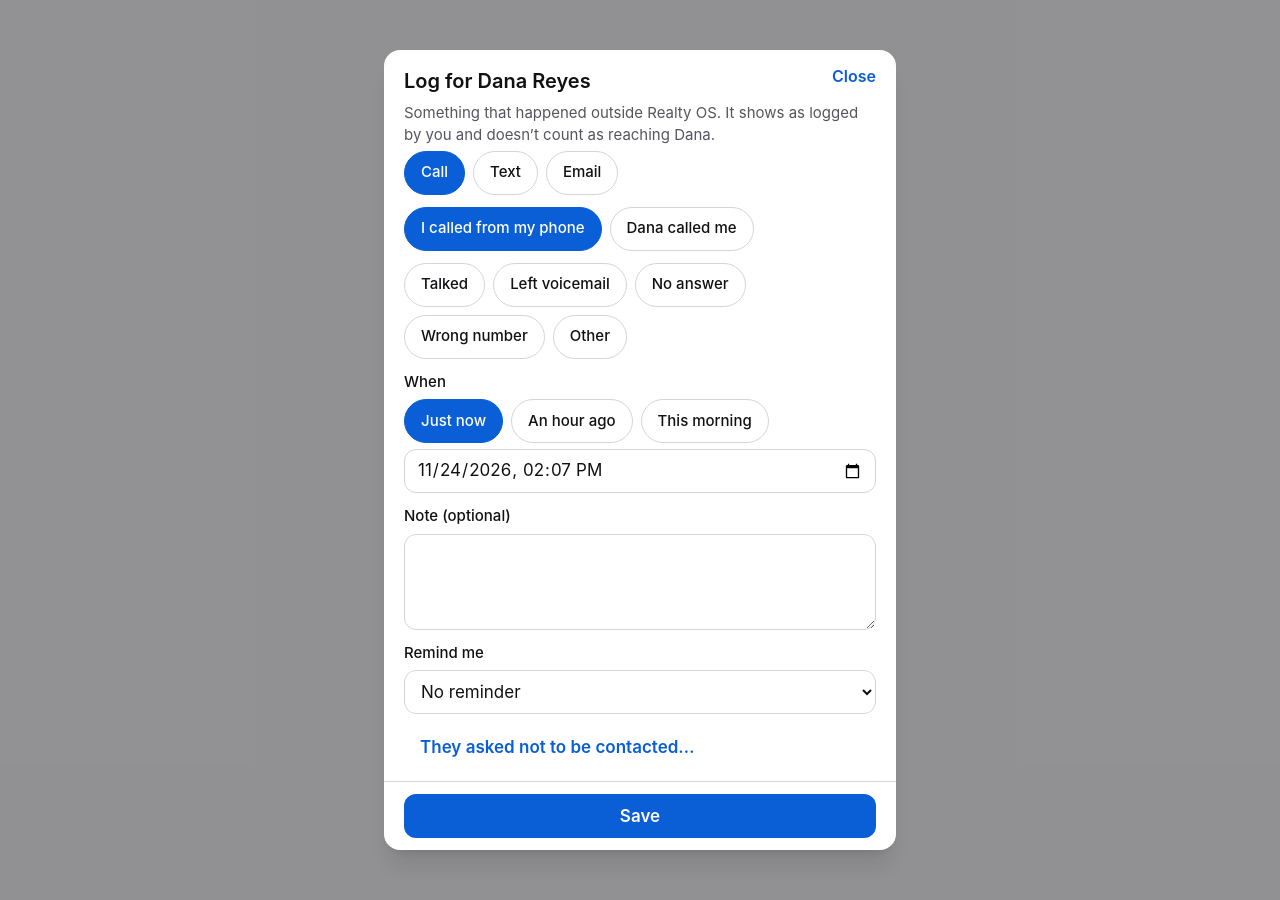
M6 (E775): Log → outcome → one button saves the log and confirms the stage › "Keep <current>": the button is "Save and keep New lead"; the log is saved and no stage request is sent
Click the button "No answer".
click(690, 285)  # box x1=635 y1=263 x2=746 y2=307
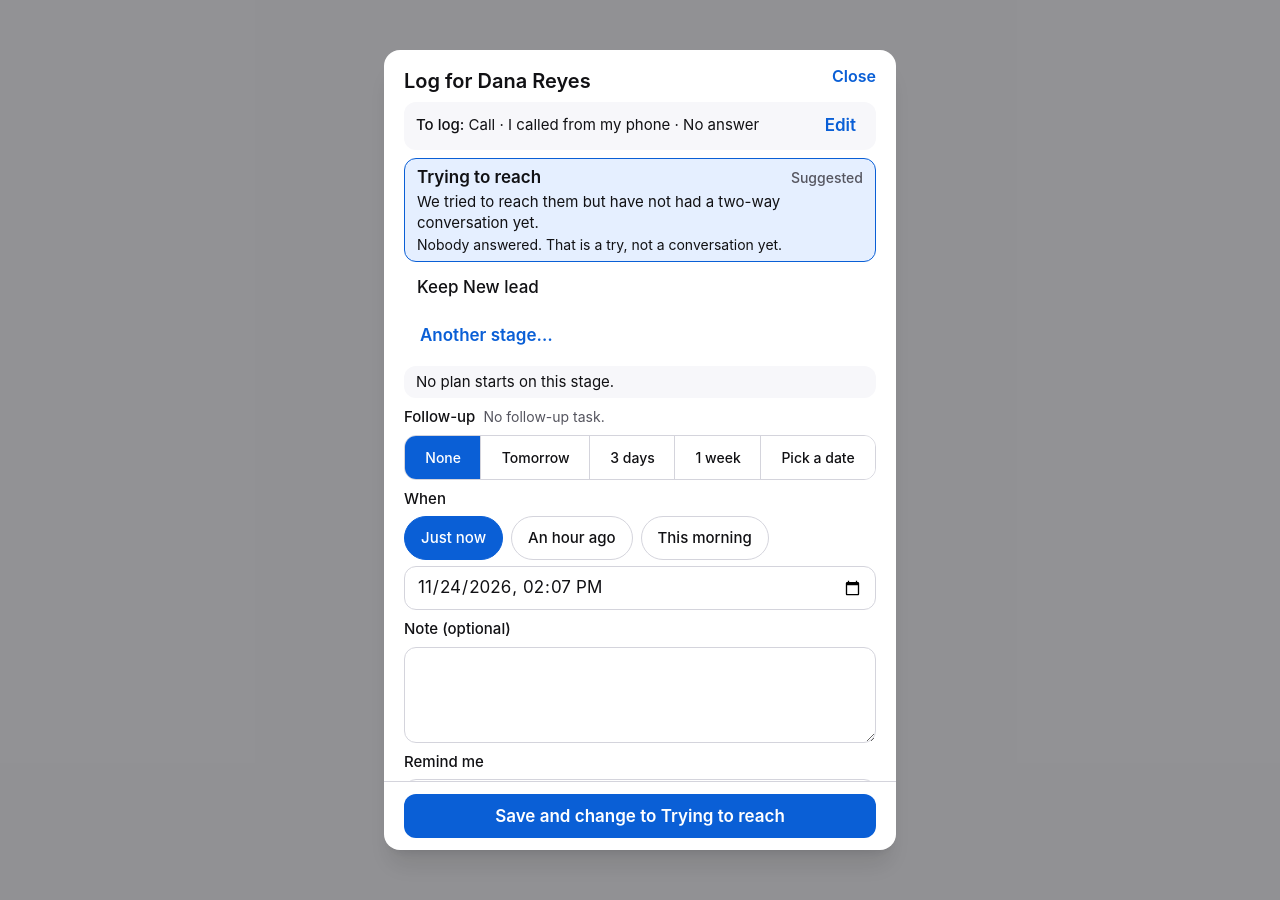
Click the radio button labelled "Keep New lead".
click(478, 287)  # box x1=404 y1=266 x2=876 y2=310
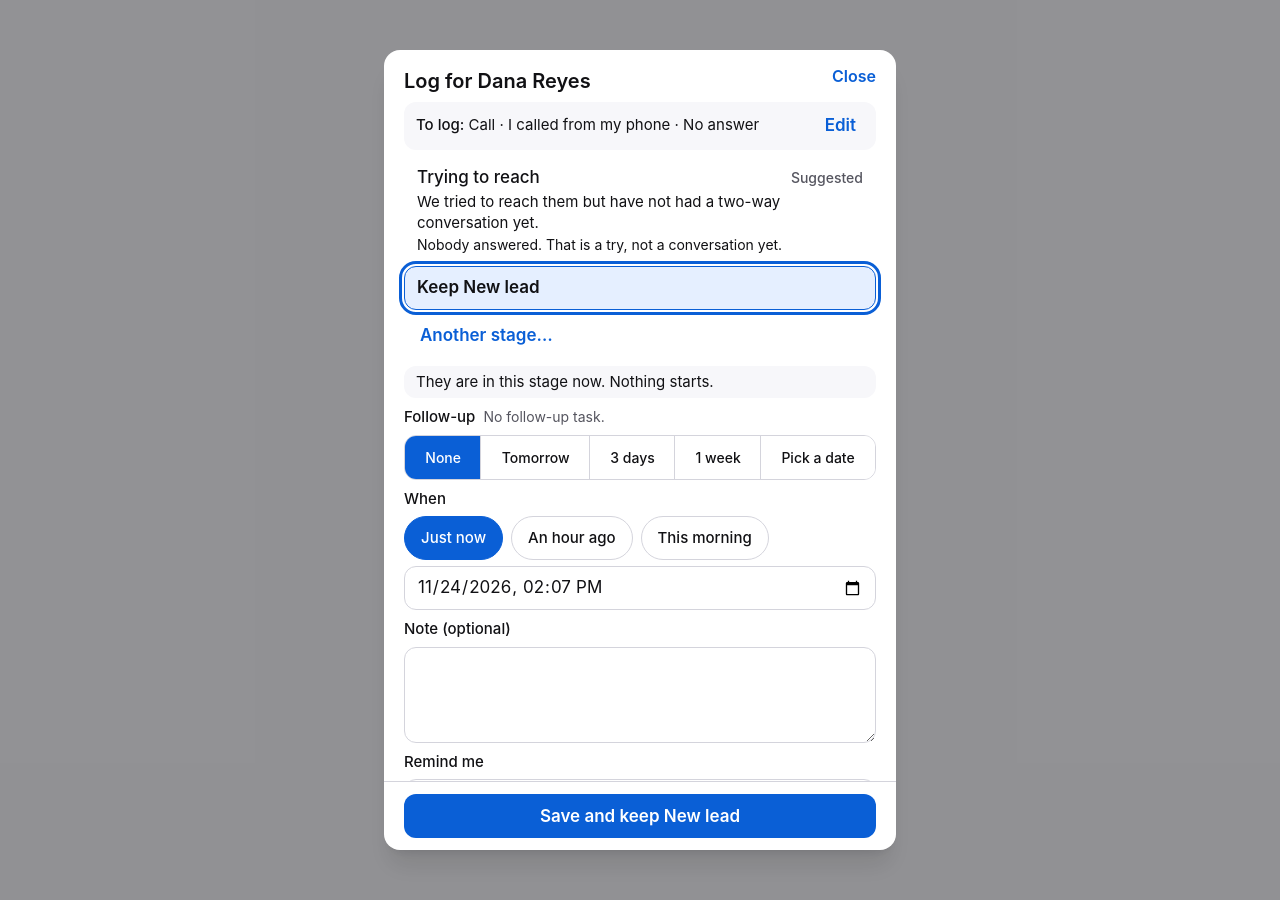
Now the button with test id "log-save" reads "Save and keep New lead"
Click the button with test id "log-save".
click(640, 816)  # box x1=404 y1=794 x2=876 y2=838
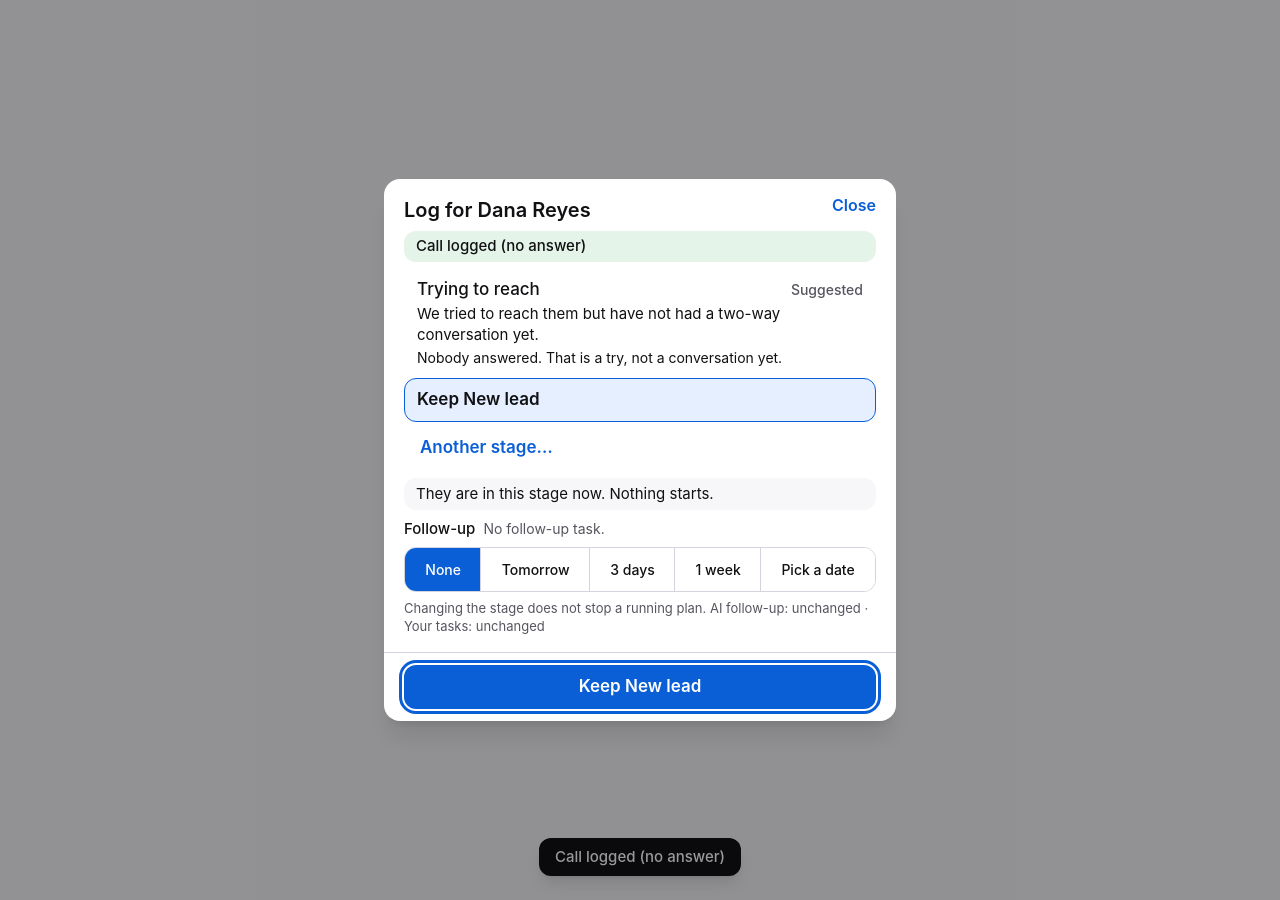
Now the text "Call logged (no answer)" is shown, box x1=555 y1=846 x2=725 y2=868
